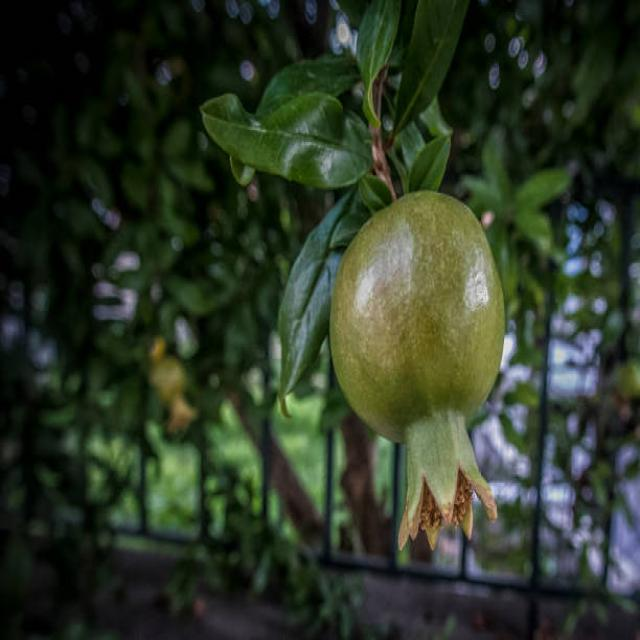Unripe: (328, 189, 507, 553)
